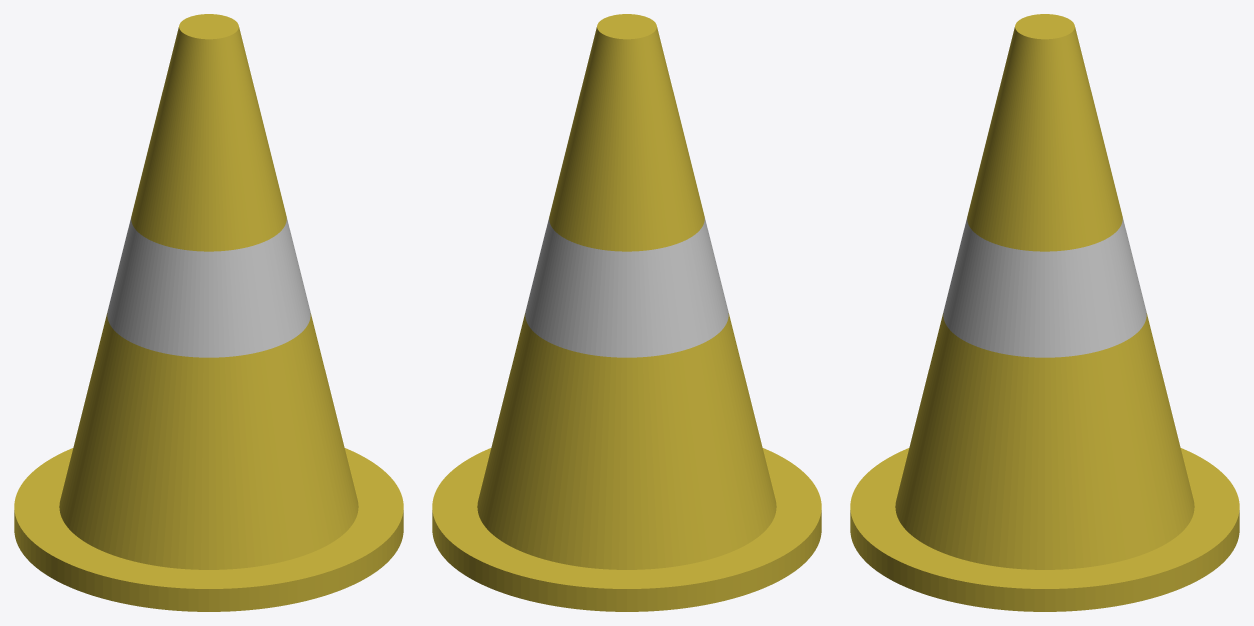
File: yellow_cone.dae
3 renders of one model, left to right at view 1: azimuth 30°, elevation 25°; view 2: azimuth 150°, elevation 25°; view 3: azimuth 270°, elevation 25°, orthographic.
Parts seen in each view (by area): view 1: Cone; view 2: Cone; view 3: Cone.
Part boxes in pixels (box(x1,y1,x2,y2)): Cone: box(14, 14, 403, 611); Cone: box(432, 14, 821, 611); Cone: box(850, 14, 1239, 611).
Size of the model in its own units: 0.228 by 0.228 by 0.325.
